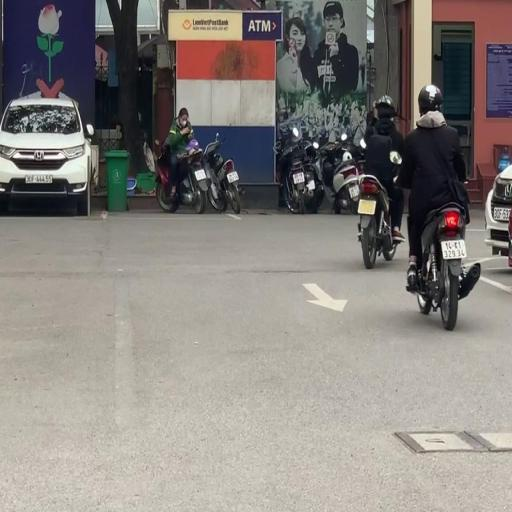bike: (392, 84, 482, 331), (358, 94, 405, 268)
numberplate: (440, 239, 467, 259), (358, 197, 377, 215), (226, 170, 240, 183), (348, 184, 360, 199), (293, 170, 305, 184), (194, 169, 206, 182)
with helmet: (417, 84, 446, 115), (376, 94, 395, 109)
